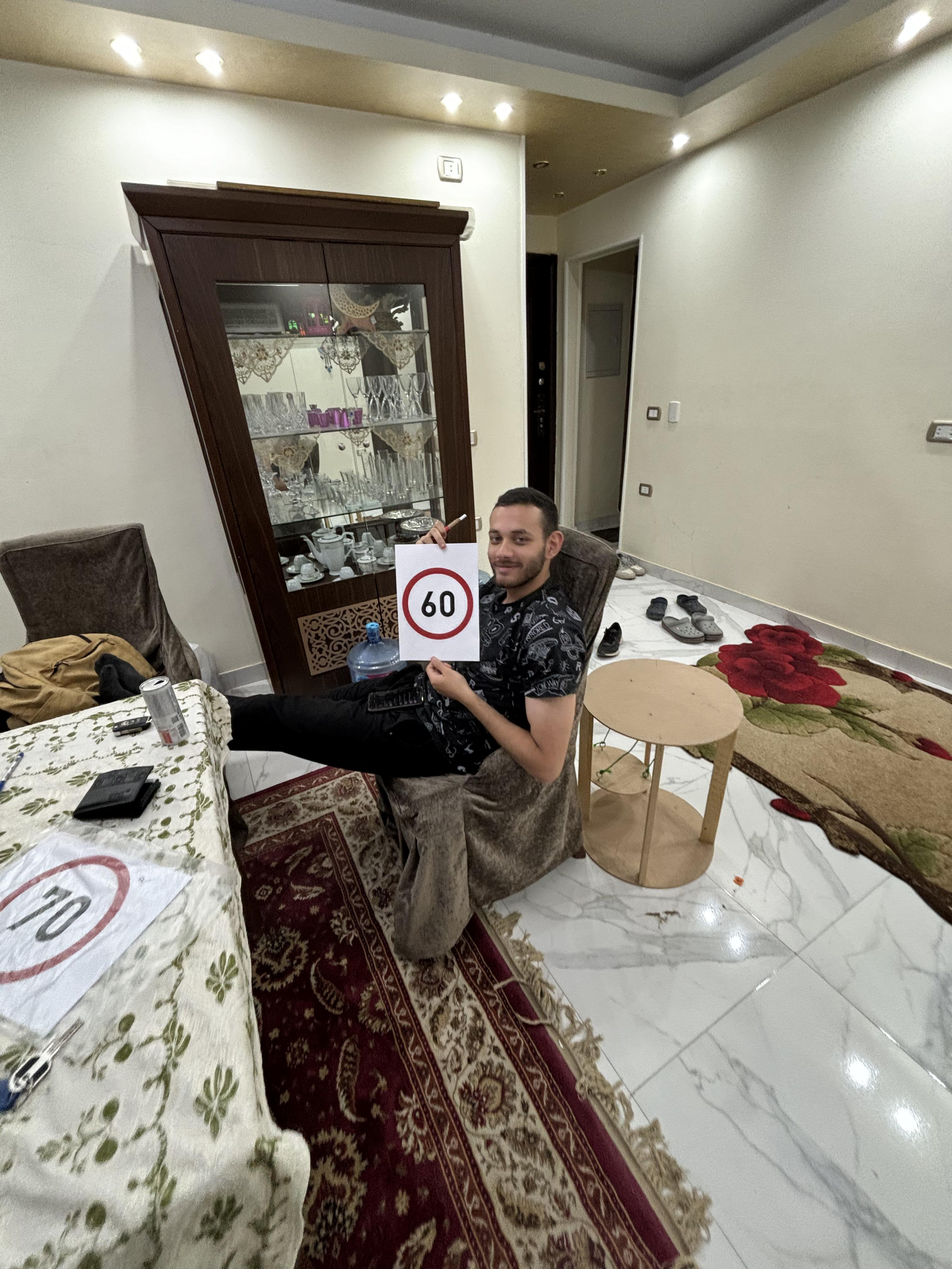60-Speed: (402, 564, 475, 643)
